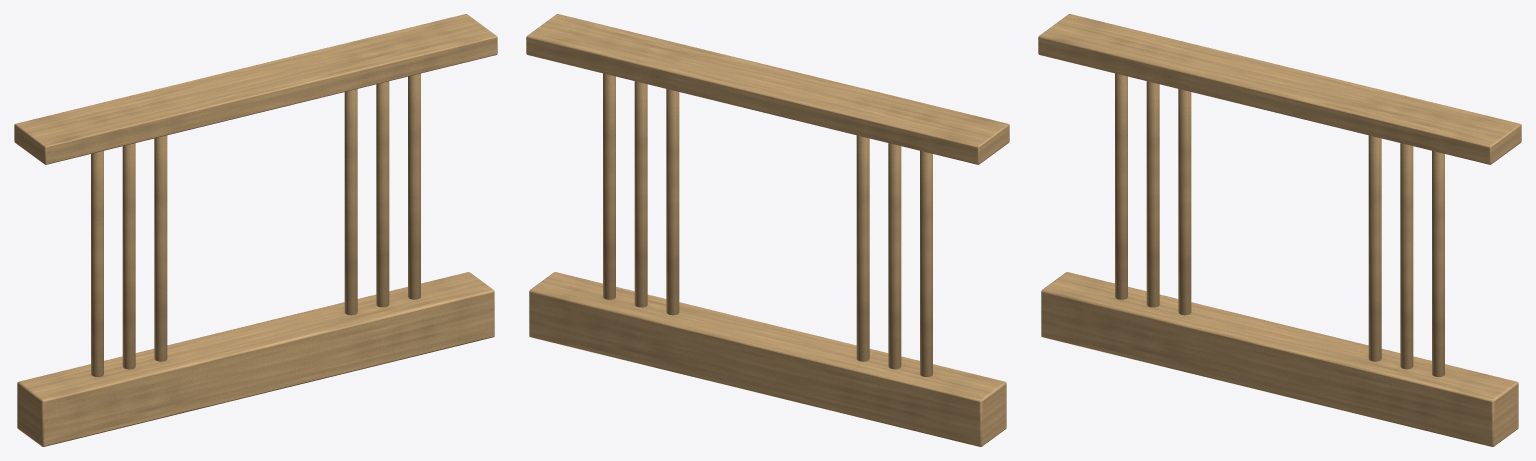
The model's file is 5-open-wood-abacus-frame.fbx.
The picture shows the model from 3 angles, left to right: view 1: azimuth 30°, elevation 25°; view 2: azimuth 150°, elevation 25°; view 3: azimuth 330°, elevation 25°; orthographic projection.
Parts seen in each view (by area): view 1: open-wood-abacus-frame; view 2: open-wood-abacus-frame; view 3: open-wood-abacus-frame.
Boxes of the visible parts, x1,y1,x2,y2 form: open-wood-abacus-frame: [14, 14, 497, 446]; open-wood-abacus-frame: [526, 14, 1009, 446]; open-wood-abacus-frame: [1038, 14, 1521, 446].
Bounding box in the file's own units: 10000 × 6400 × 1200.
Materials: 1 (1 with a texture image).
